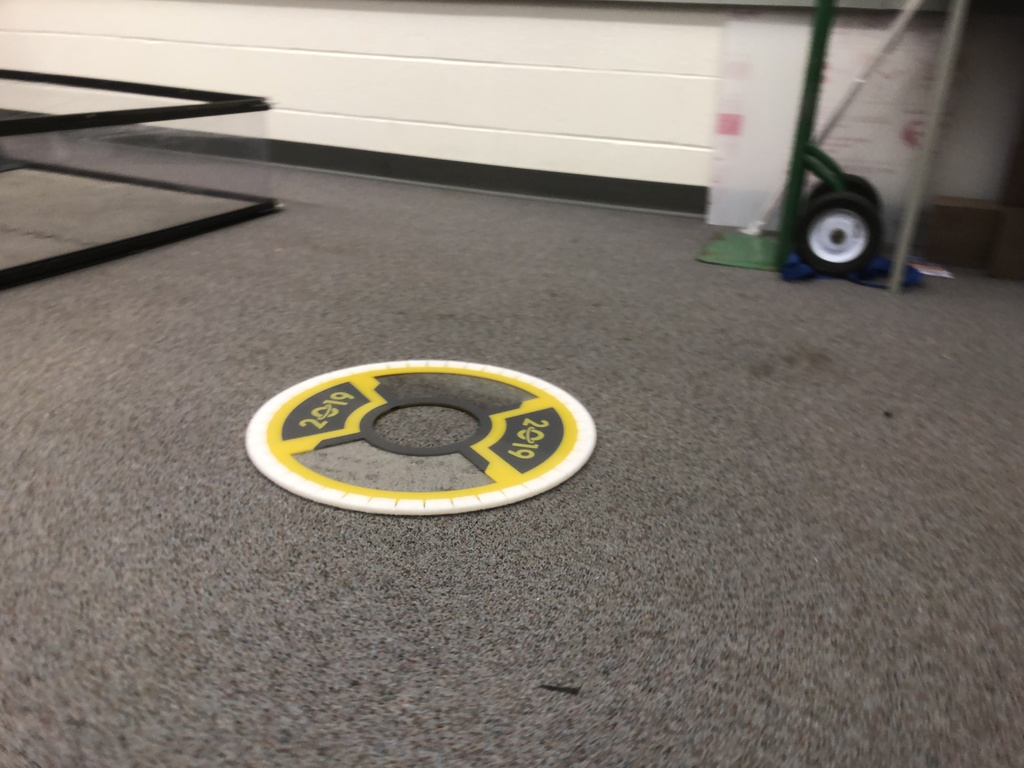hatch_panel: (230, 344, 624, 521)
